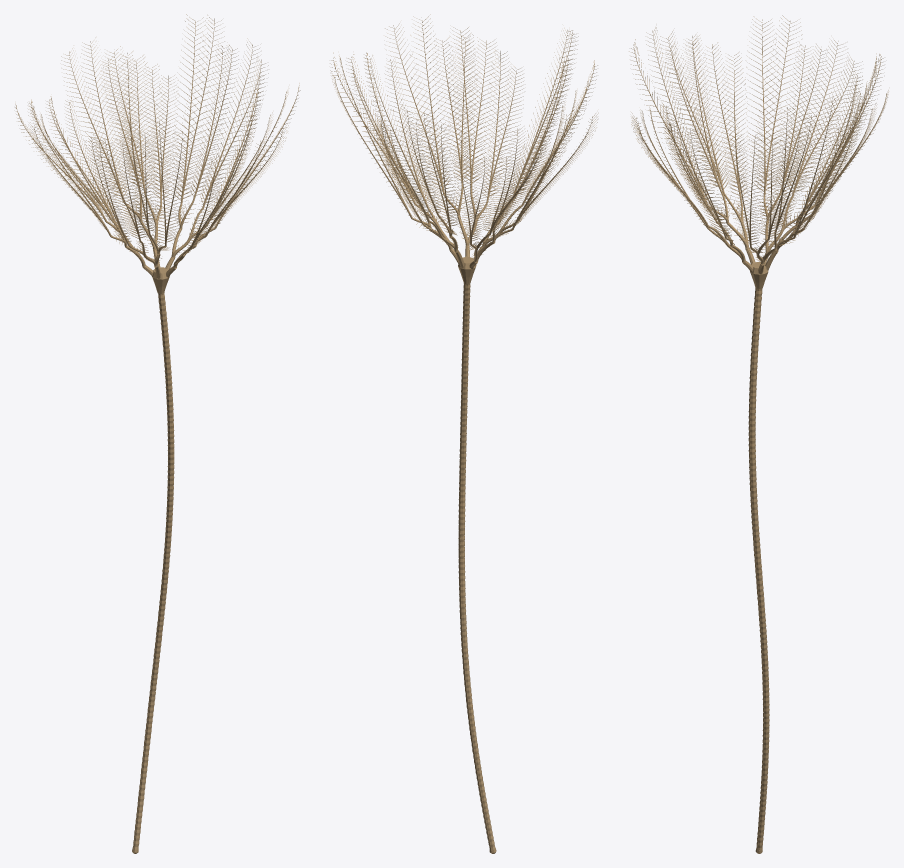
3 views of the same model, side by side, from view 1: azimuth 30°, elevation 25°; view 2: azimuth 150°, elevation 25°; view 3: azimuth 270°, elevation 25° (orthographic). The views are drawn at different scales.
Visible parts, largest first — view 1: Seirocrinus subangularis | restrained living reconstruction; view 2: Seirocrinus subangularis | restrained living reconstruction; view 3: Seirocrinus subangularis | restrained living reconstruction.
Boxes of the visible parts, x1,y1,x2,y2 form: Seirocrinus subangularis | restrained living reconstruction: (15, 14, 300, 853); Seirocrinus subangularis | restrained living reconstruction: (330, 14, 598, 853); Seirocrinus subangularis | restrained living reconstruction: (629, 15, 888, 853).
Size of the model in its own units: 0.333 by 1.03 by 0.2983.
1 material, 1 textured.
